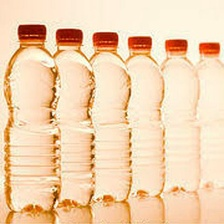bottle: (2, 20, 63, 215), (44, 24, 97, 210), (87, 28, 133, 206), (125, 34, 168, 204), (156, 36, 201, 197), (190, 38, 224, 191)
